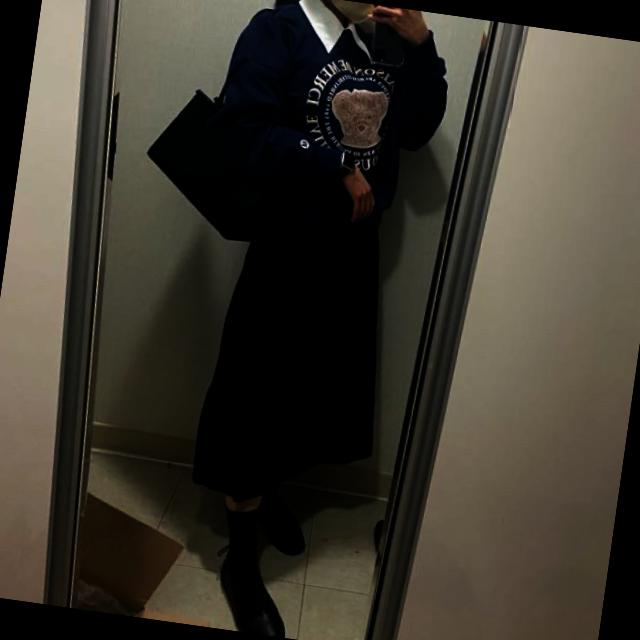mtm: (209, 0, 459, 233)
skirt: (185, 202, 402, 521)
